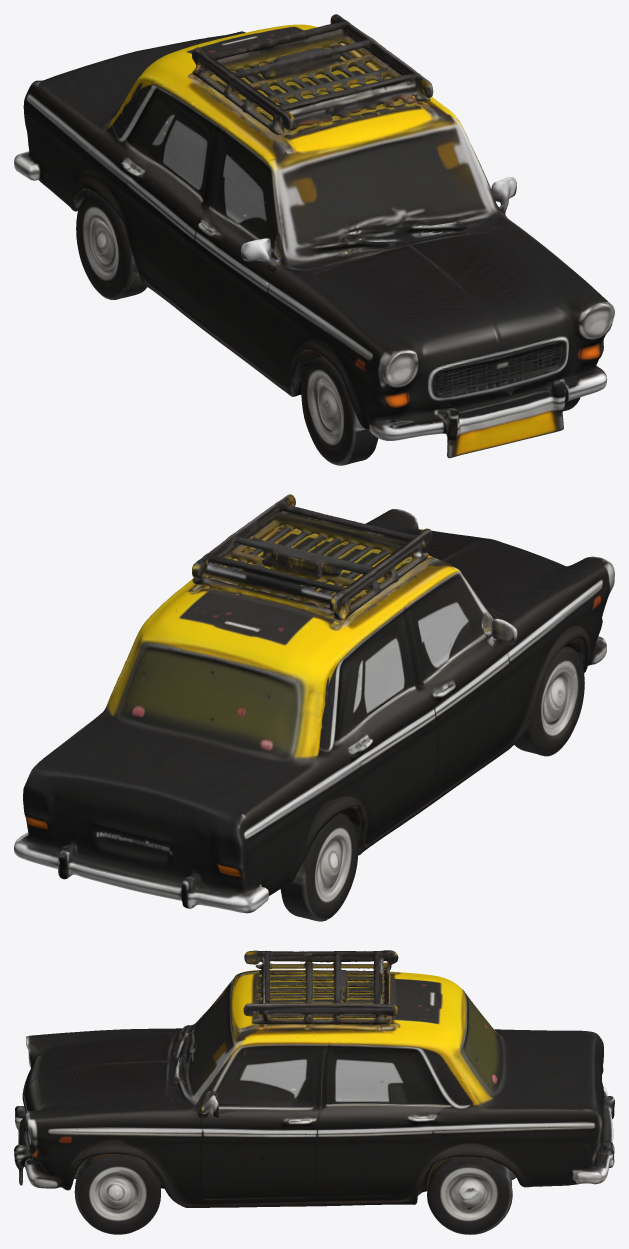
Rendered from kaali-peeli-taxi.fbx.
3 views of the same model, one above another, from view 1: azimuth 30°, elevation 25°; view 2: azimuth 150°, elevation 25°; view 3: azimuth 270°, elevation 25° (orthographic). The views are drawn at different scales.
Visible parts, largest first — view 1: Mesh1.0; view 2: Mesh1.0; view 3: Mesh1.0.
Part boxes in pixels (x1=…): Mesh1.0: x1=14, y1=14, x2=614, y2=465; Mesh1.0: x1=14, y1=494, x2=614, y2=921; Mesh1.0: x1=14, y1=950, x2=614, y2=1234.
Bounding box in the file's own units: 82.64 × 79.18 × 201.
Materials: 1 (1 with a texture image).
